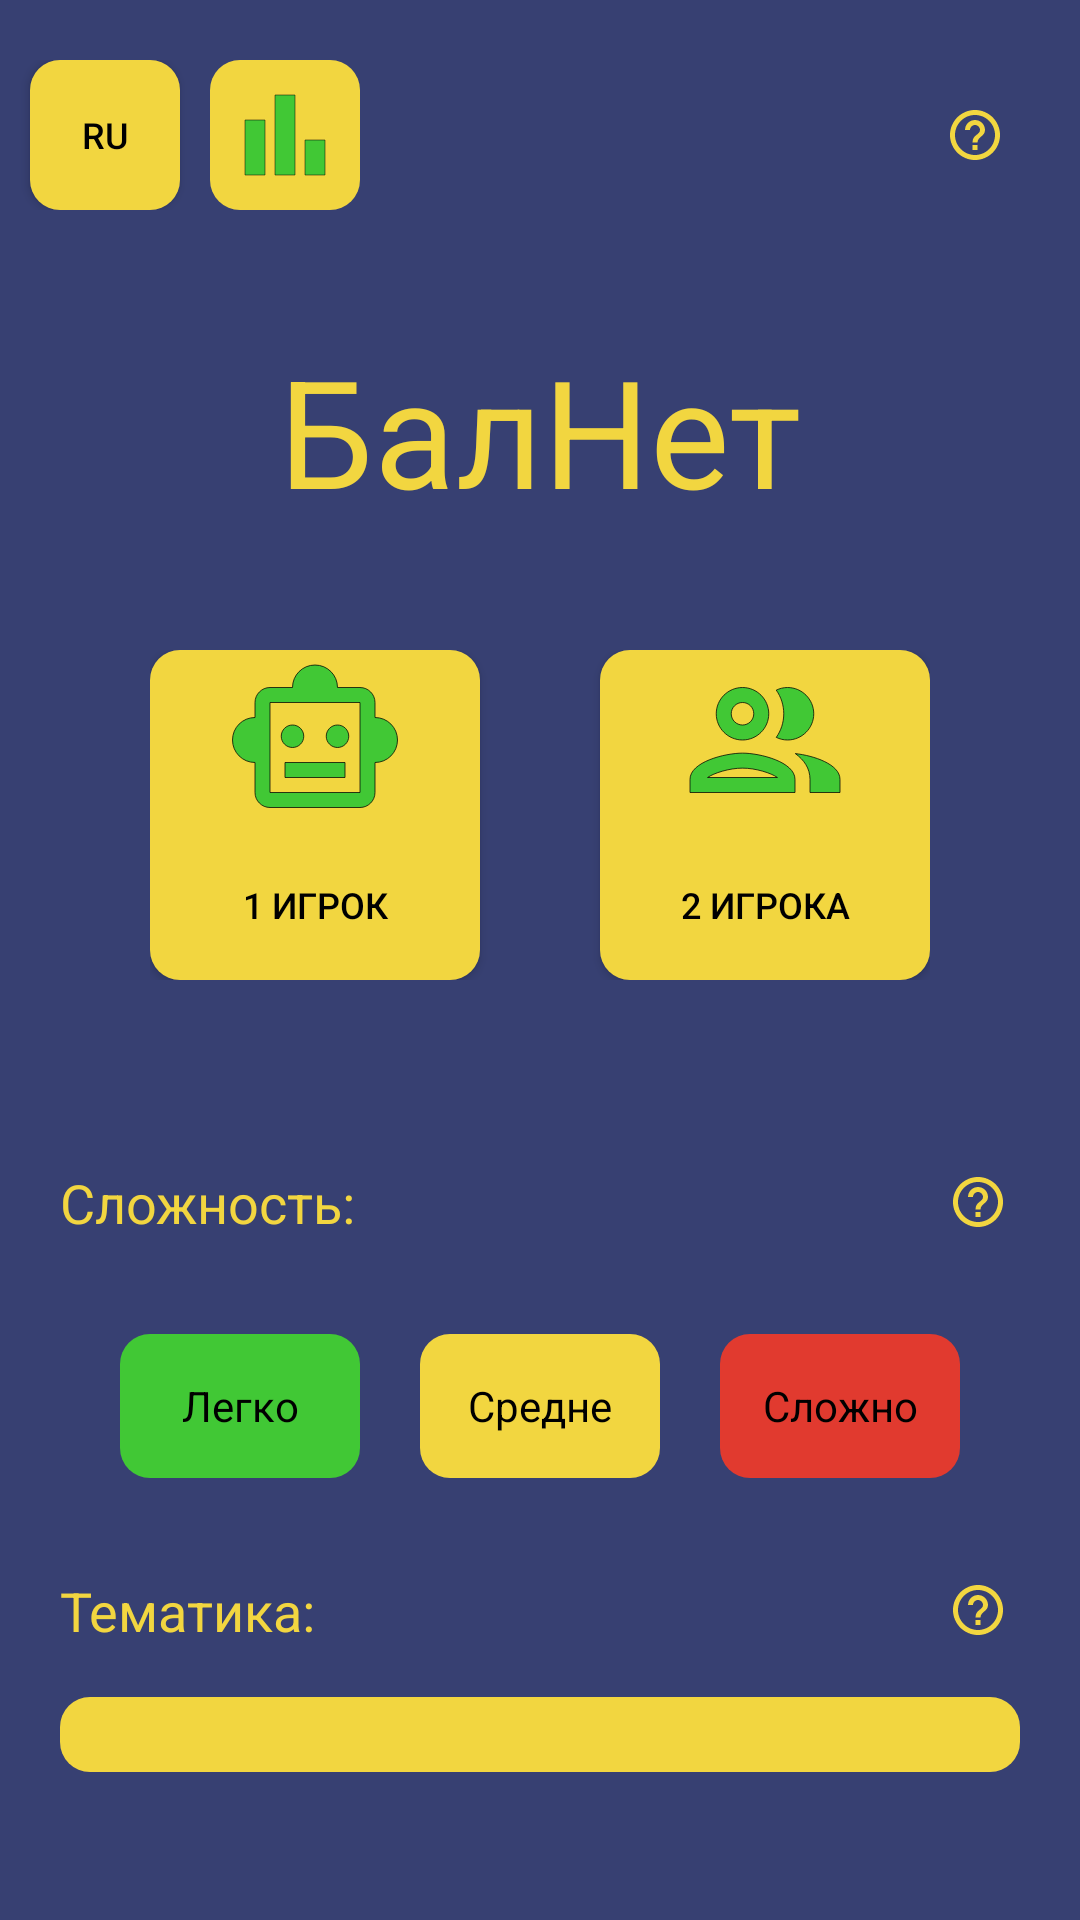

Locate icon controls on the screen. Image size 1080×1920, boxes as (x1, y1, x2, y2).
bar chart: (210, 60, 360, 210)
help: (950, 110, 1000, 160), (953, 1177, 1003, 1227), (953, 1585, 1003, 1635)
